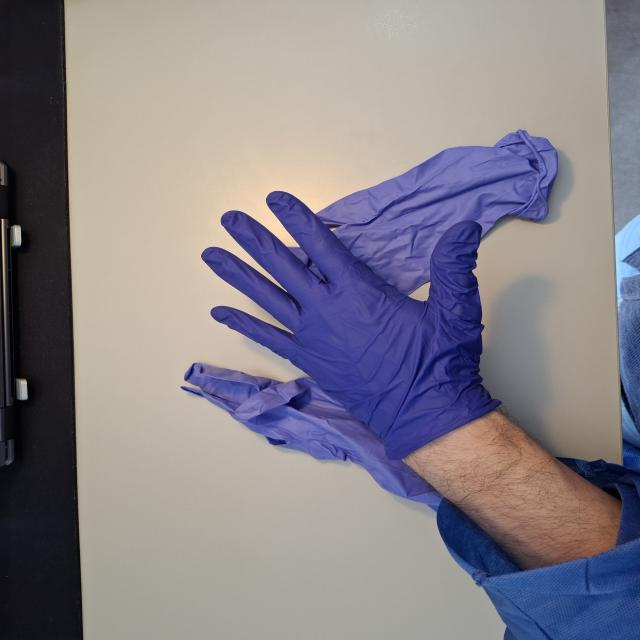glove_on: (199, 189, 490, 445)
